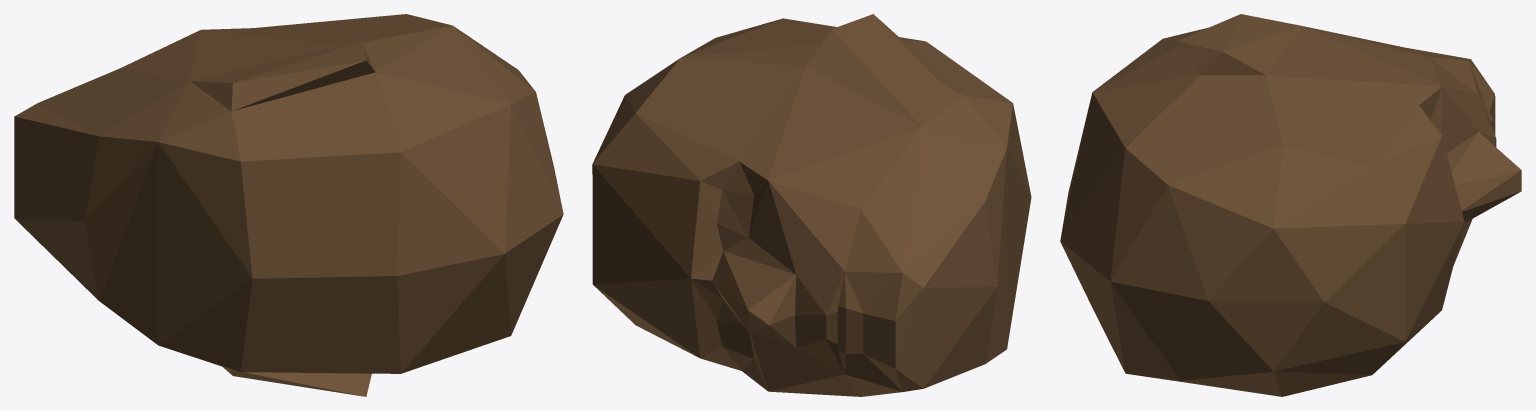
File: HUM_HEAD_FLEX.OBJ
3 renders of one model, left to right at view 1: azimuth 30°, elevation 25°; view 2: azimuth 150°, elevation 25°; view 3: azimuth 270°, elevation 25°, orthographic. The views are drawn at different scales.
Parts seen in each view (by area): view 1: HUM_HEAD_FLEX; view 2: HUM_HEAD_FLEX; view 3: HUM_HEAD_FLEX.
Part boxes in pixels (x1,y1,x2,y2): HUM_HEAD_FLEX: [14, 14, 563, 396]; HUM_HEAD_FLEX: [592, 14, 1031, 396]; HUM_HEAD_FLEX: [1060, 14, 1521, 396].
Bounding box in the file's own units: 0.2321 × 0.1823 × 0.2327.
